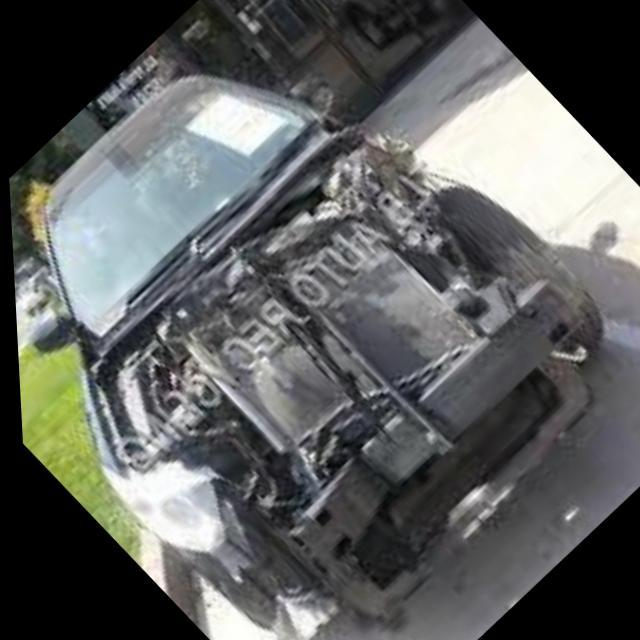no part: (95, 131, 589, 640)
